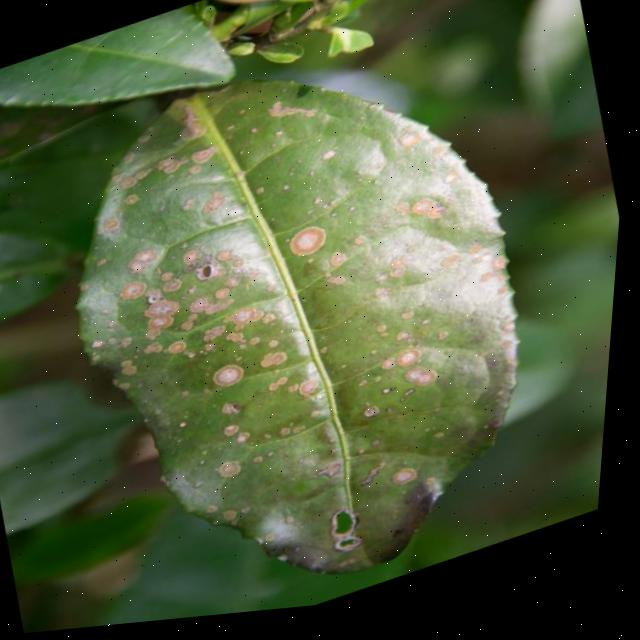Tea algae leaf spot: (66, 50, 584, 632)
